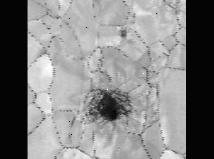good_void: (90, 83, 133, 125), (117, 26, 128, 37), (71, 150, 77, 156)
